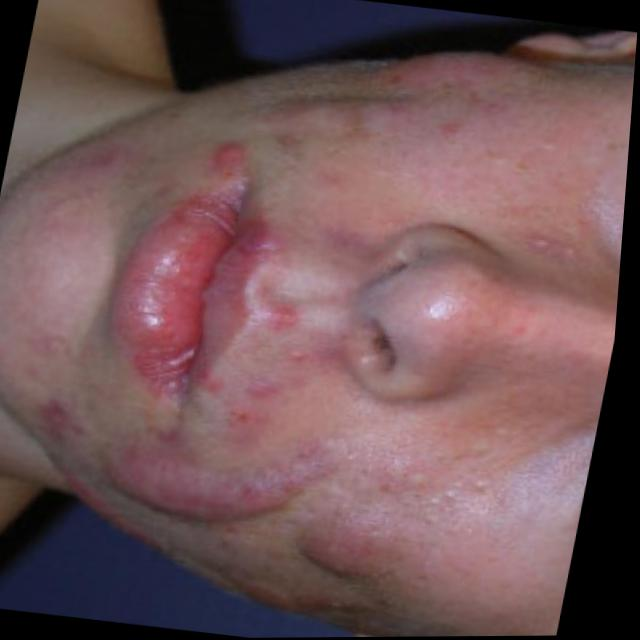Acne: (0, 20, 560, 640)
